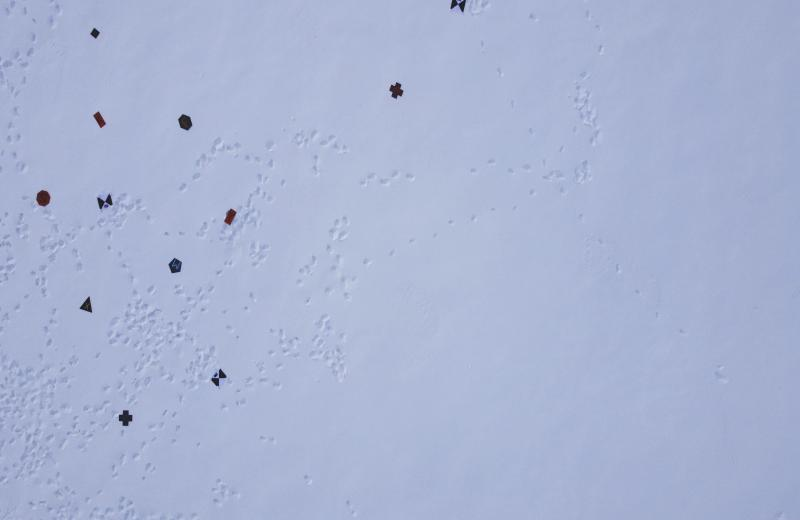Cross: (389, 82, 404, 100), (118, 409, 133, 427)
Hexagon: (177, 114, 193, 131)
Octagon: (36, 190, 51, 207)
Pentagon: (168, 257, 183, 274)
Rectangle: (93, 111, 106, 129), (224, 208, 237, 226)
Square: (90, 27, 100, 39)
Triangle: (80, 296, 94, 314)
